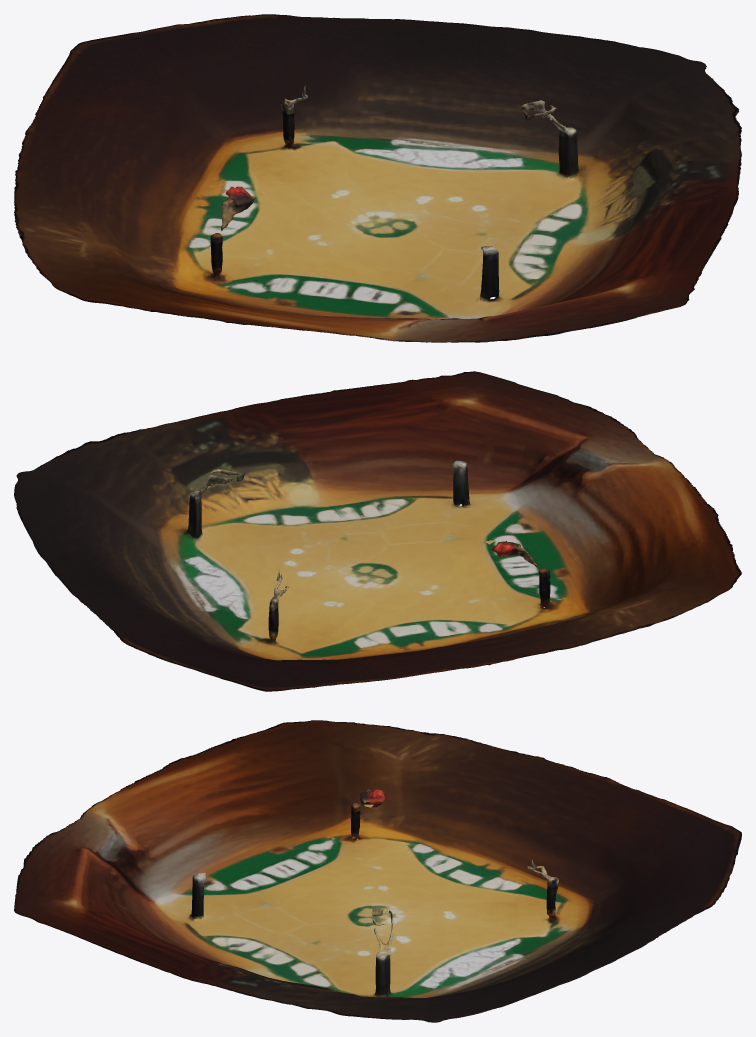
The model's file is sculpt.glb.
3 views of the same model, one above another, from view 1: azimuth 30°, elevation 25°; view 2: azimuth 150°, elevation 25°; view 3: azimuth 270°, elevation 25° (orthographic). The views are drawn at different scales.
Parts seen in each view (by area): view 1: mesh; view 2: mesh; view 3: mesh.
Boxes of the visible parts, <box> form: mesh: <box>14,14,741,342</box>; mesh: <box>14,371,741,691</box>; mesh: <box>14,720,741,1022</box>.
Bounding box in the file's own units: 0.9823 × 0.1048 × 0.9967.
Materials: 1 (1 with a texture image).
